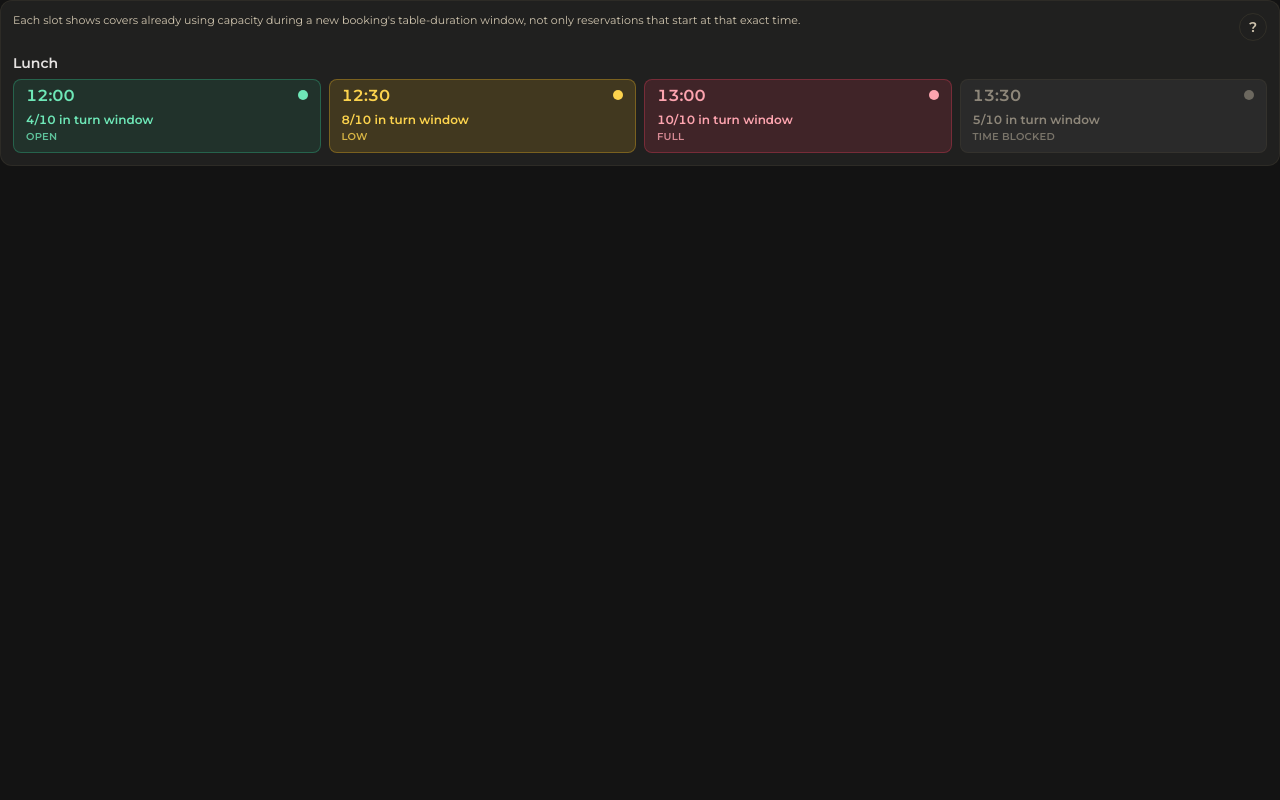
Test: DayOccupancy › explains why slot capacity counts overlapping table-duration windows
What coordinates should you click on to do the following:
click the button named "how slot capacity is calculated"
I would click on:
 (1253, 27)
Its box is [1239, 13, 1267, 41].
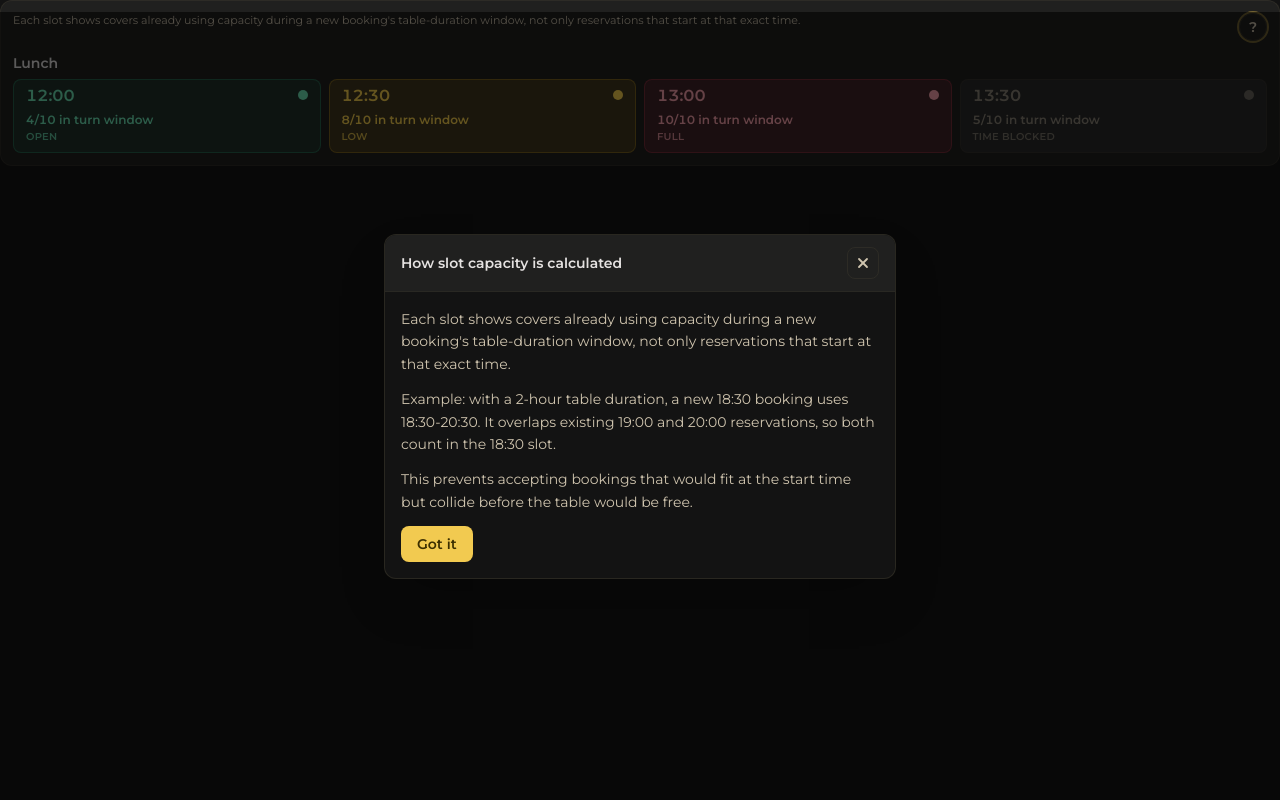
Expected: the dialog "How slot capacity is calculated" is shown
Expected: the text "new booking's table-duration window" is shown, [401, 310, 871, 373]
Expected: the text "18:30-20:30" is shown, [401, 390, 875, 453]
What coordinates should you click on to do the following:
click the button "Got it"
I would click on:
 (437, 544)
Its box is [401, 526, 473, 562].
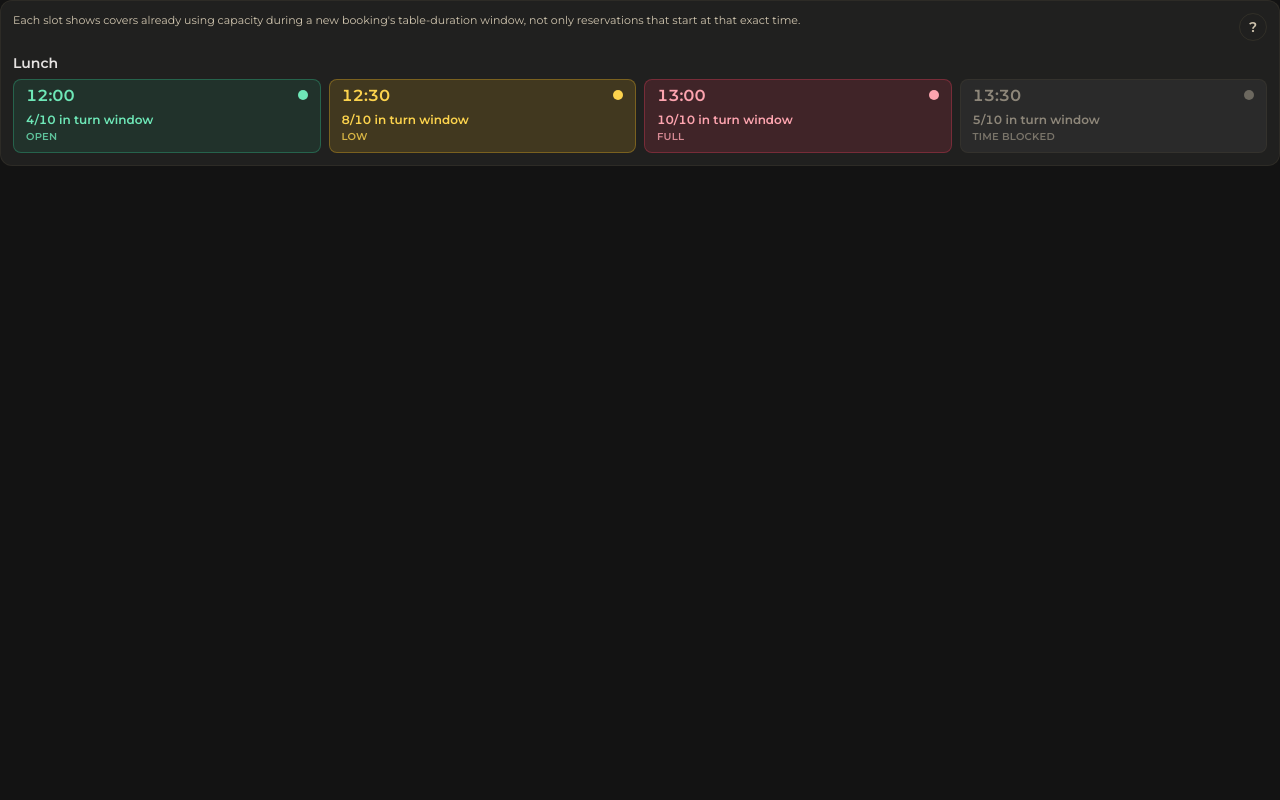
Expected: the heading "How slot capacity is calculated" is gone
